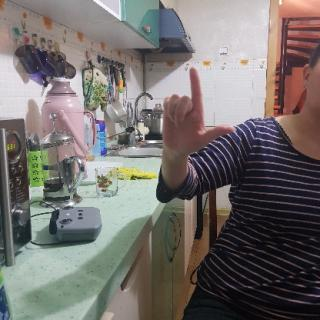LAAM: (156, 66, 237, 157)
